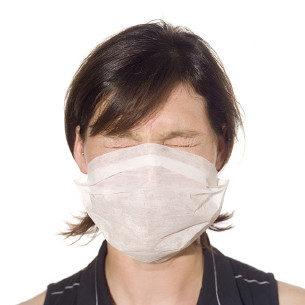face_mask: (89, 85, 214, 260)
